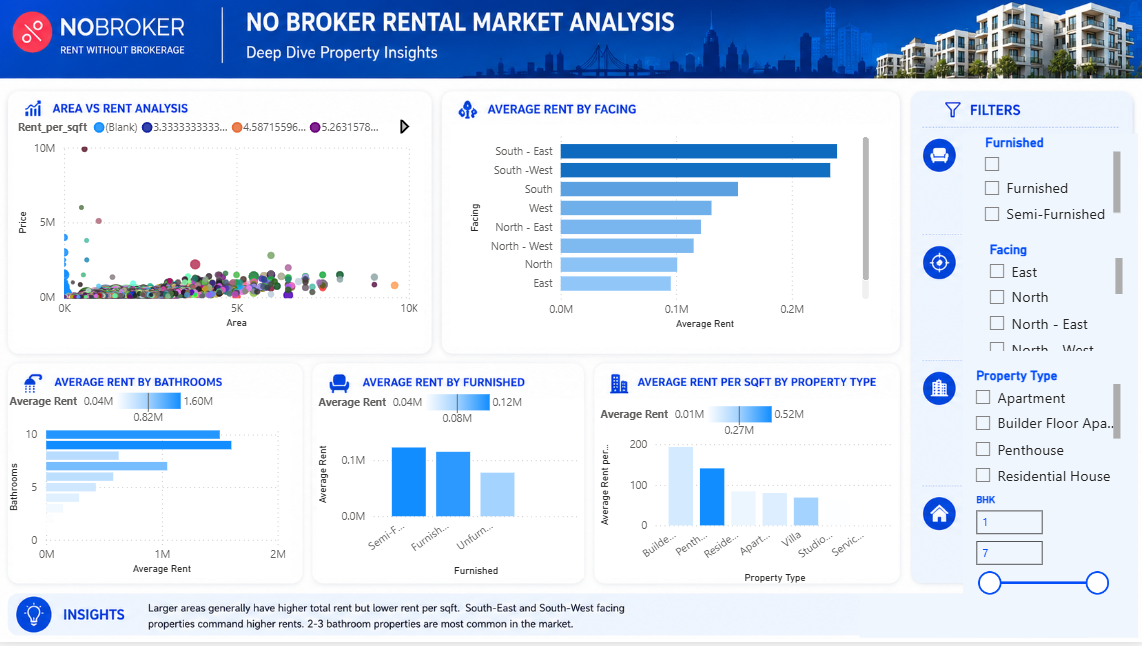

The page's visual inventory and layout, read from the dashboard file:
{"tool":"powerbi","page":{"name":"Page 2","canvas":[1280,720],"ordinal":1},"visuals":[{"type":"shape","box":[962.4,665.9,252.4,48.8],"z":0},{"type":"shape","box":[1077.3,154.5,194.5,560],"z":1000},{"type":"shape","box":[21.6,144.7,455.8,247.4],"z":2000},{"type":"shape","box":[506.2,145,490,247.5],"z":3000},{"type":"shape","box":[21.1,450,307.8,198.9],"z":4000},{"type":"shape","box":[357.5,450,297.5,198.8],"z":5000},{"type":"shape","box":[668.8,450,336.2,198.8],"z":6000},{"type":"scatterChart","title":"Area vs Rent Analysis","fields":{"Y":["Mumbai_property_details_cleaned.Price"],"X":["Mumbai_property_details_cleaned.Area"],"Series":["Mumbai_property_details_cleaned.Rent_per_sqft"],"Size":["Sum(Mumbai_property_details_cleaned.Bathrooms)"]},"box":[22.4,128.9,453.9,247.4],"z":7000},{"type":"clusteredBarChart","fields":{"Category":["Mumbai_property_details_cleaned.Bathrooms"],"Y":["Mumbai_property_details_cleaned.Average Rent"]},"box":[11.4,434.3,317.1,214.3],"z":8000},{"type":"columnChart","fields":{"Category":["Mumbai_property_details_cleaned.Furnished"],"Y":["Mumbai_property_details_cleaned.Average Rent"]},"box":[355.7,437.1,298.6,214.3],"z":9000},{"type":"columnChart","fields":{"Y":["Mumbai_property_details_cleaned.Average Rent per SqFt"],"Category":["Mumbai_property_details_cleaned.Property Type"]},"box":[669.1,450,336.4,209.1],"z":10000},{"type":"clusteredBarChart","fields":{"Category":["Mumbai_property_details_cleaned.Facing"],"Y":["Mumbai_property_details_cleaned.Average Rent"]},"box":[523.7,144.7,453.9,231.6],"z":11000},{"type":"slicer","fields":{"Values":["Mumbai_property_details_cleaned.Facing"]},"box":[1092.9,270,165.7,131.4],"z":12000},{"type":"slicer","fields":{"Values":["Mumbai_property_details_cleaned.BHK"]},"box":[1078.2,550,169.1,125.5],"z":13000},{"type":"slicer","fields":{"Values":["Mumbai_property_details_cleaned.Property Type"]},"box":[1078.6,410,178.6,140],"z":14000},{"type":"slicer","fields":{"Values":["Mumbai_property_details_cleaned.Furnished"]},"box":[1088.6,151.4,168.6,117.1],"z":15000}]}

Visuals, with their boxes in screenshot pixels (x1, y1, x2, y2), scaled from the page's 1280x720 canvas onto the 1142x646 screenshot:
shape: [859,597,1084,641]
shape: [961,139,1135,641]
shape: [19,130,426,352]
shape: [452,130,889,352]
shape: [19,404,293,582]
shape: [319,404,584,582]
shape: [597,404,897,582]
"Area vs Rent Analysis" scatterChart: [20,116,425,338]
clusteredBarChart - Mumbai_property_details_cleaned.Bathrooms x Mumbai_property_details_cleaned.Average Rent: [10,390,293,582]
columnChart - Mumbai_property_details_cleaned.Furnished x Mumbai_property_details_cleaned.Average Rent: [317,392,584,584]
columnChart - Mumbai_property_details_cleaned.Average Rent per SqFt x Mumbai_property_details_cleaned.Property Type: [597,404,897,591]
clusteredBarChart - Mumbai_property_details_cleaned.Facing x Mumbai_property_details_cleaned.Average Rent: [467,130,872,338]
slicer - Mumbai_property_details_cleaned.Facing: [975,242,1123,360]
slicer - Mumbai_property_details_cleaned.BHK: [962,493,1113,606]
slicer - Mumbai_property_details_cleaned.Property Type: [962,368,1122,493]
slicer - Mumbai_property_details_cleaned.Furnished: [971,136,1122,241]
